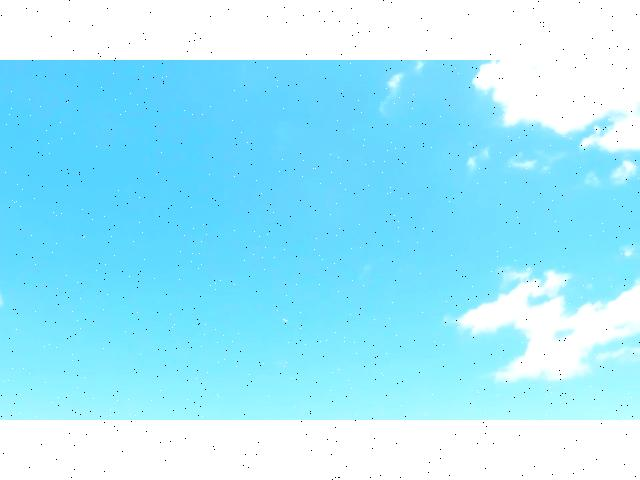Anti-Drone: (278, 313, 300, 331)
